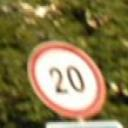speed_limit_20: (25, 36, 109, 121)
